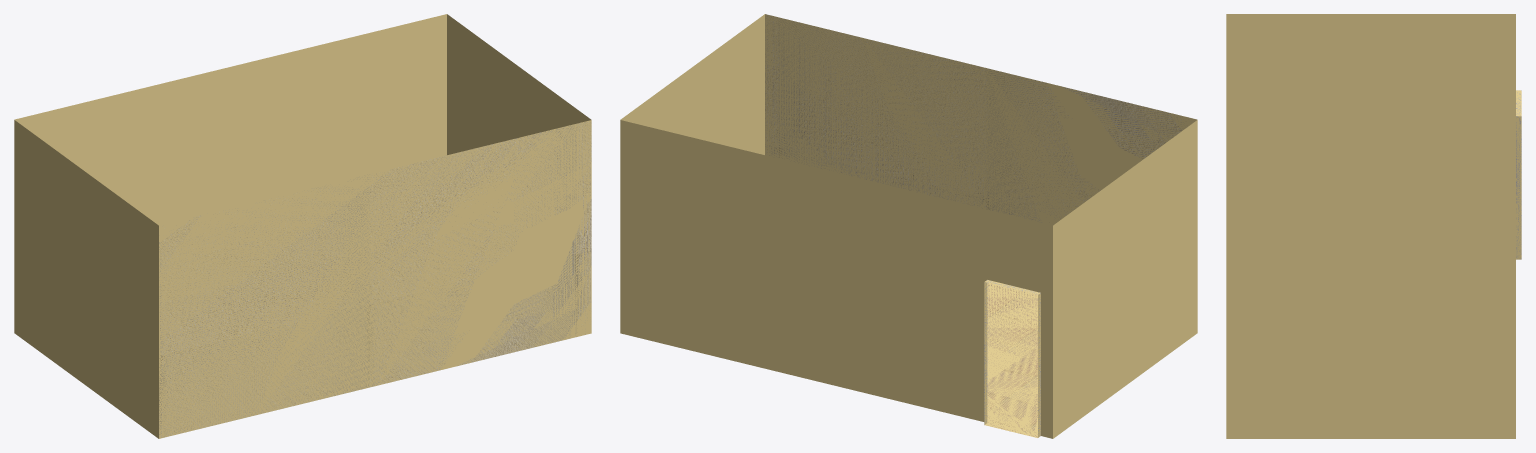
The model's file is LAB021.obj.
3 renders of one model, left to right at view 1: azimuth 30°, elevation 25°; view 2: azimuth 150°, elevation 25°; view 3: azimuth 270°, elevation 25°, orthographic.
Parts seen in each view (by area): view 1: Mesh1 LAB021 Model; view 2: Mesh1 LAB021 Model; view 3: Mesh1 LAB021 Model.
Boxes of the visible parts, x1,y1,x2,y2 form: Mesh1 LAB021 Model: (14, 14, 591, 438); Mesh1 LAB021 Model: (620, 14, 1197, 438); Mesh1 LAB021 Model: (1226, 14, 1521, 438).
Bounding box in the file's own units: 6.37 × 3 × 3.76.
4 materials, 2 textured.
